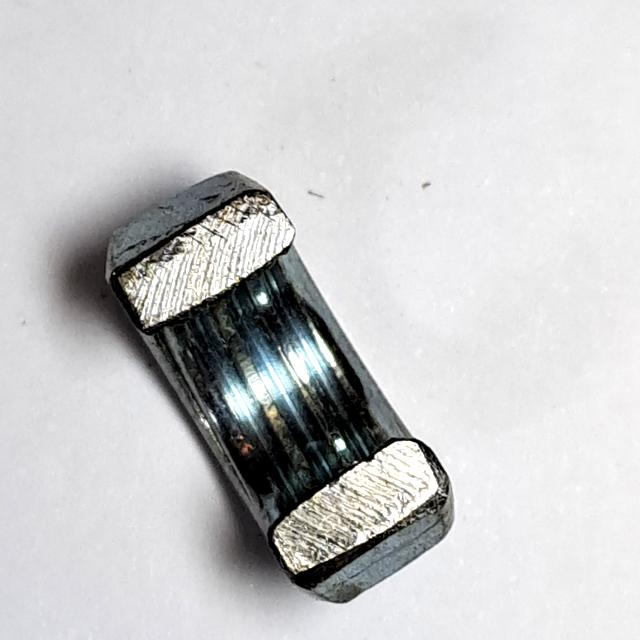Side-Fracture: (94, 164, 472, 615)
